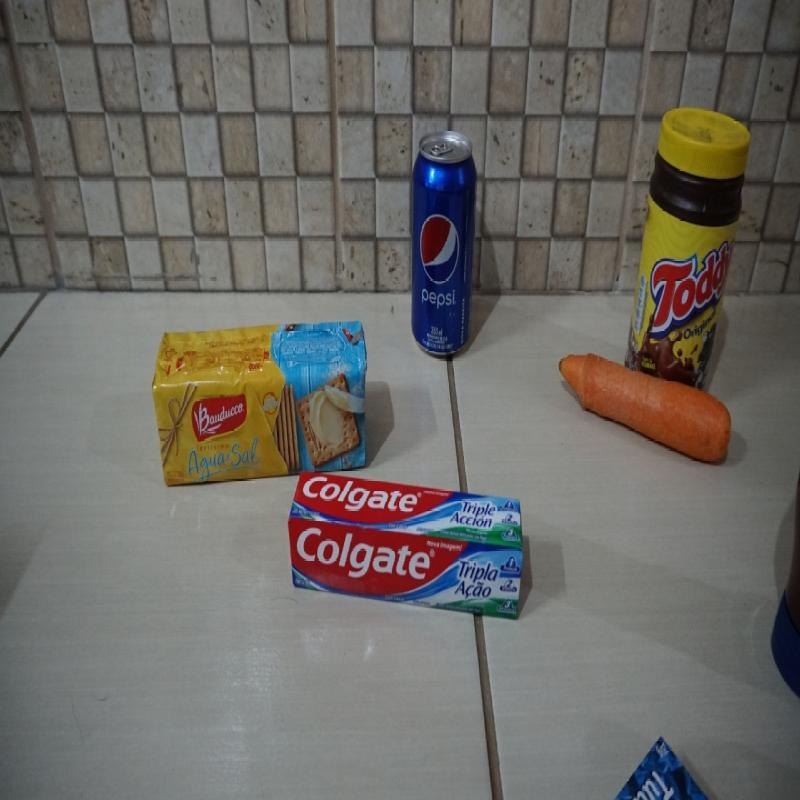Carrot: (557, 351, 734, 470)
Chocolate Powder: (629, 103, 750, 340)
Cracker: (153, 321, 371, 472)
Gelatine: (608, 732, 701, 798)
Soda can: (409, 126, 477, 355)
Toothpaste: (287, 471, 526, 626)
